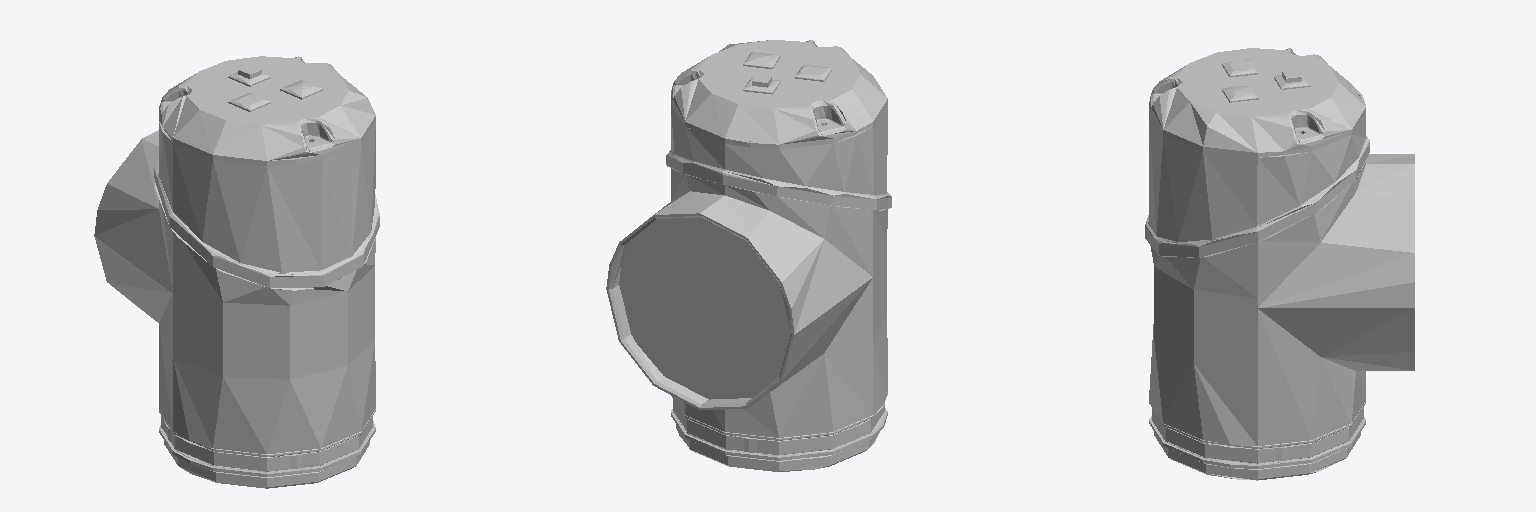
Rendered from ARM6.obj.
3 views of the same model, side by side, from view 1: azimuth 30°, elevation 25°; view 2: azimuth 150°, elevation 25°; view 3: azimuth 270°, elevation 25° (orthographic).
Parts seen in each view (by area): view 1: GBT-C7A-J5.001; view 2: GBT-C7A-J5.001; view 3: GBT-C7A-J5.001.
Part boxes in pixels (x1,y1,x2,y2): GBT-C7A-J5.001: (94,56,379,488); GBT-C7A-J5.001: (606,40,891,471); GBT-C7A-J5.001: (1145,48,1414,480).
Size of the model in its own units: 83 by 148 by 99.5.